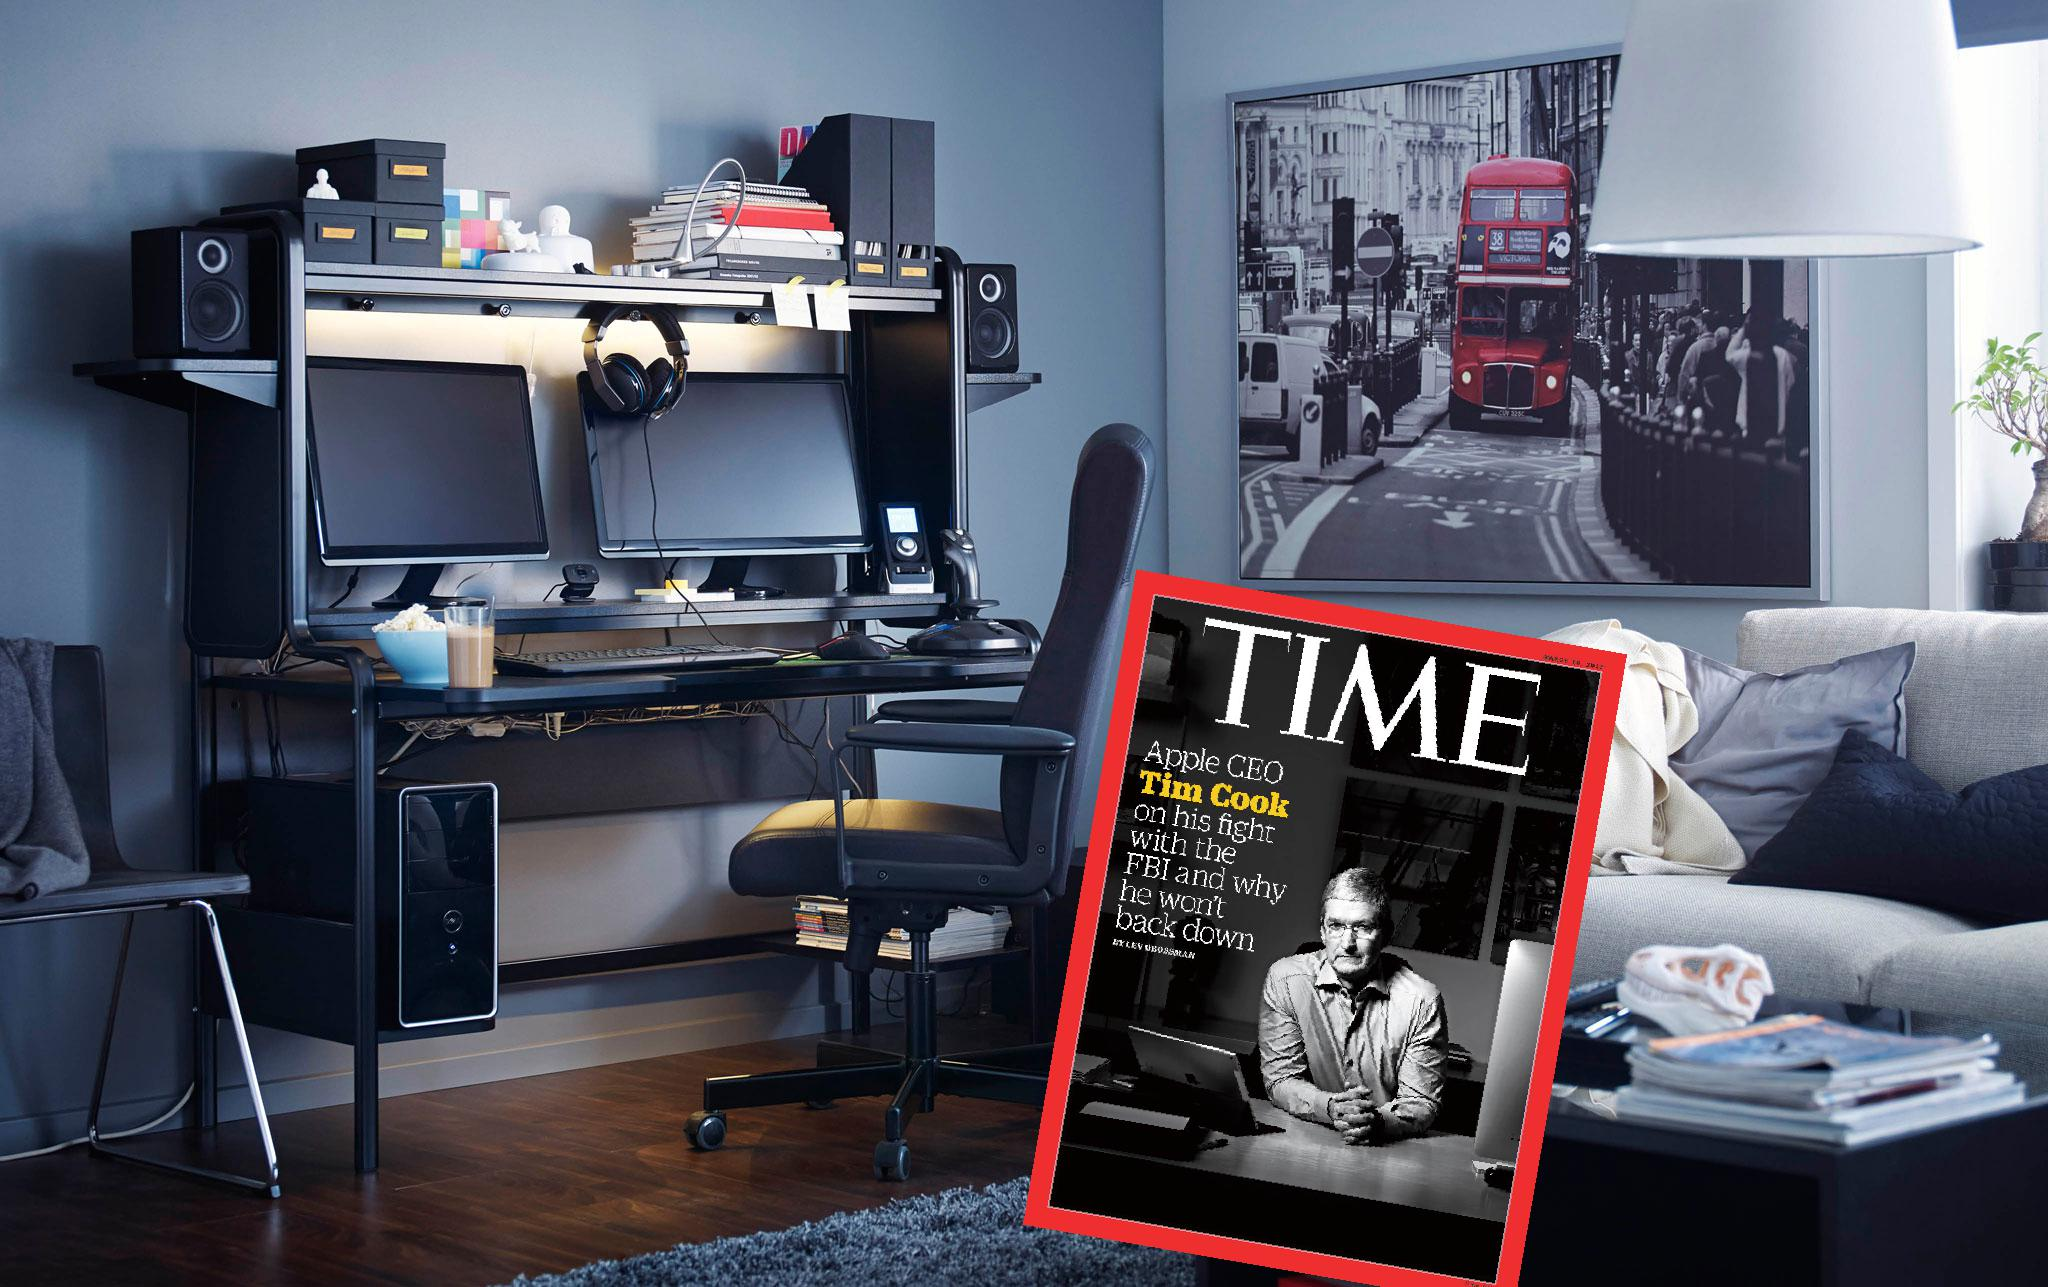times: (1015, 565, 1633, 1287)
